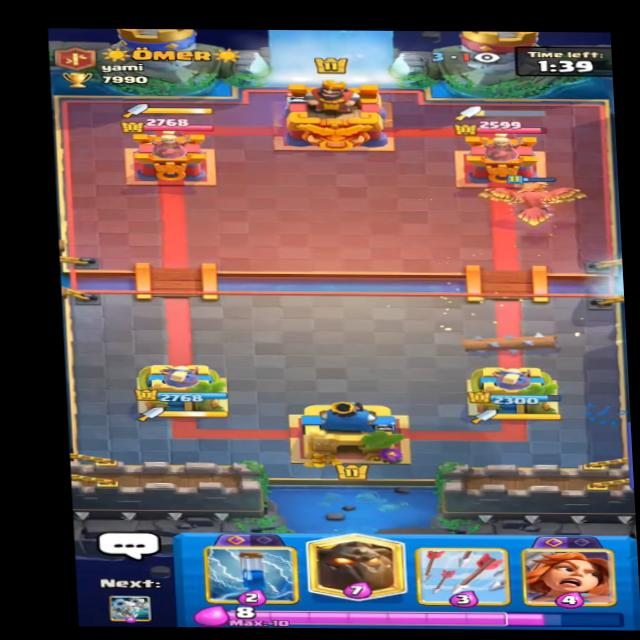Log: (453, 327, 573, 357)
